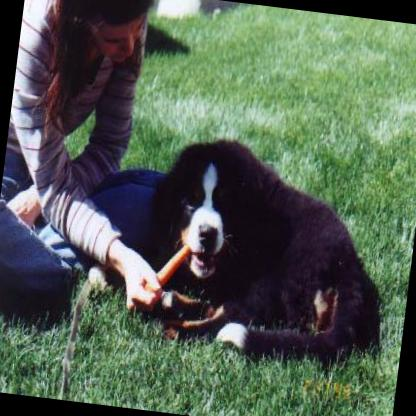Bernese_mountain_dog: (131, 126, 406, 376)
